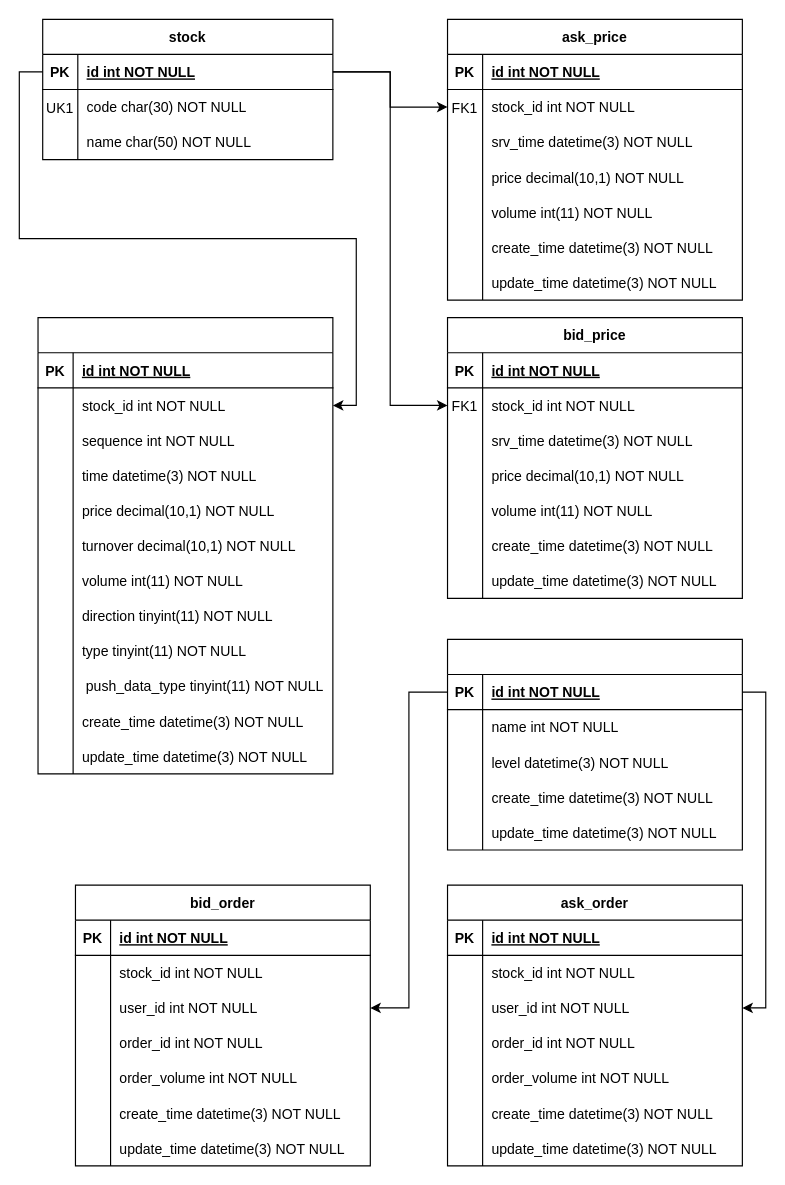
Some shapes in this 785 by 1185 pixel diagram are drawn without their labels. Here are the shapes that lost their labels. From the top down, the box of each, then its label:
(37, 316, 333, 774): deal_price
(446, 638, 742, 850): user
